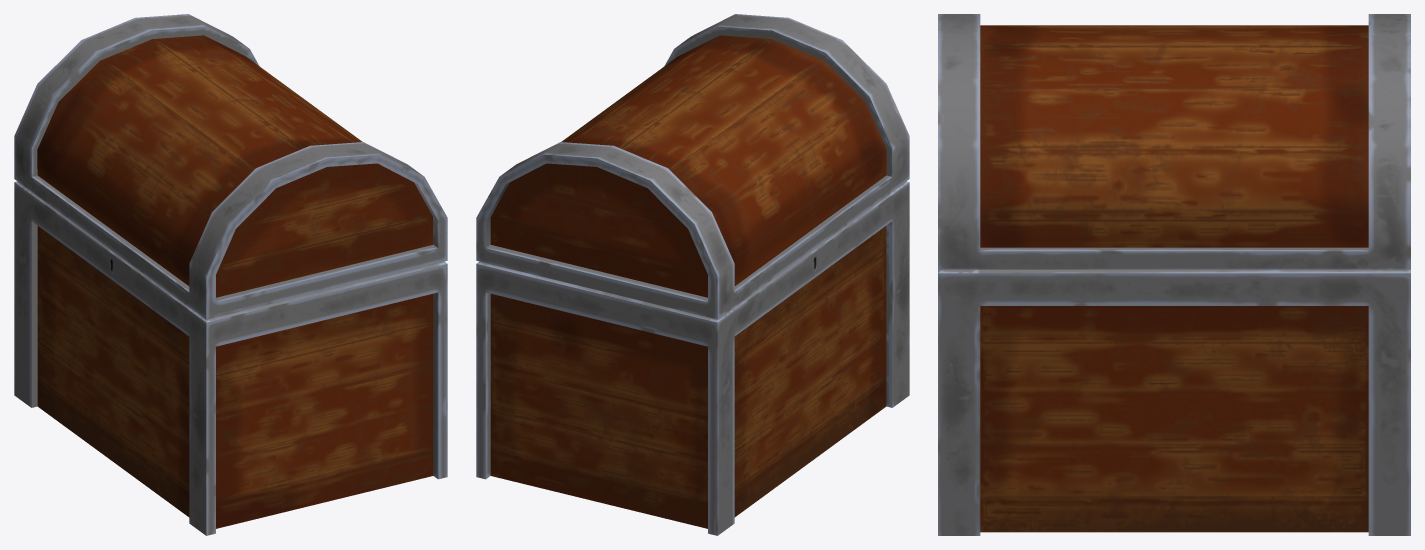
File: Chest test.fbx
The picture shows the model from 3 angles, left to right: view 1: azimuth 30°, elevation 25°; view 2: azimuth 150°, elevation 25°; view 3: azimuth 270°, elevation 25°; orthographic projection. The views are drawn at different scales.
Parts seen in each view (by area): view 1: Cube.002; view 2: Cube.002; view 3: Cube.002.
Part boxes in pixels (left/top/right/bottom): Cube.002: left=14, top=14, right=447, bottom=535; Cube.002: left=476, top=14, right=909, bottom=535; Cube.002: left=938, top=14, right=1410, bottom=535.
Size of the model in its own units: 145 by 200 by 200.
Materials: 2 (2 with a texture image).
